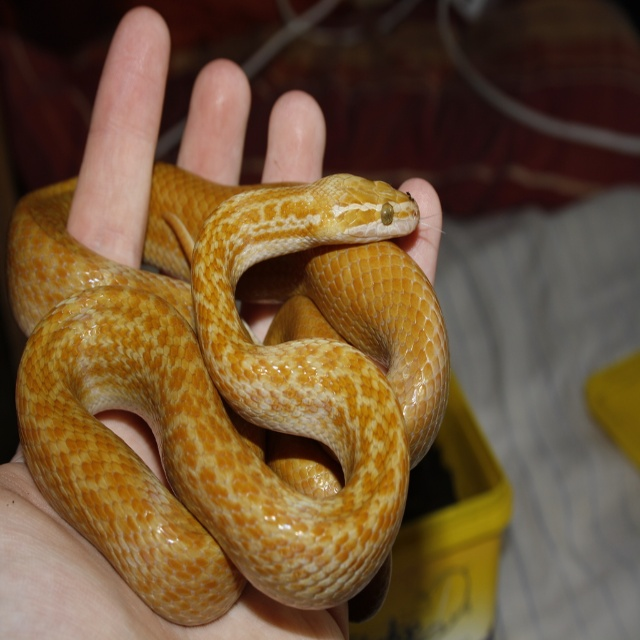Snake: (14, 98, 459, 629)
